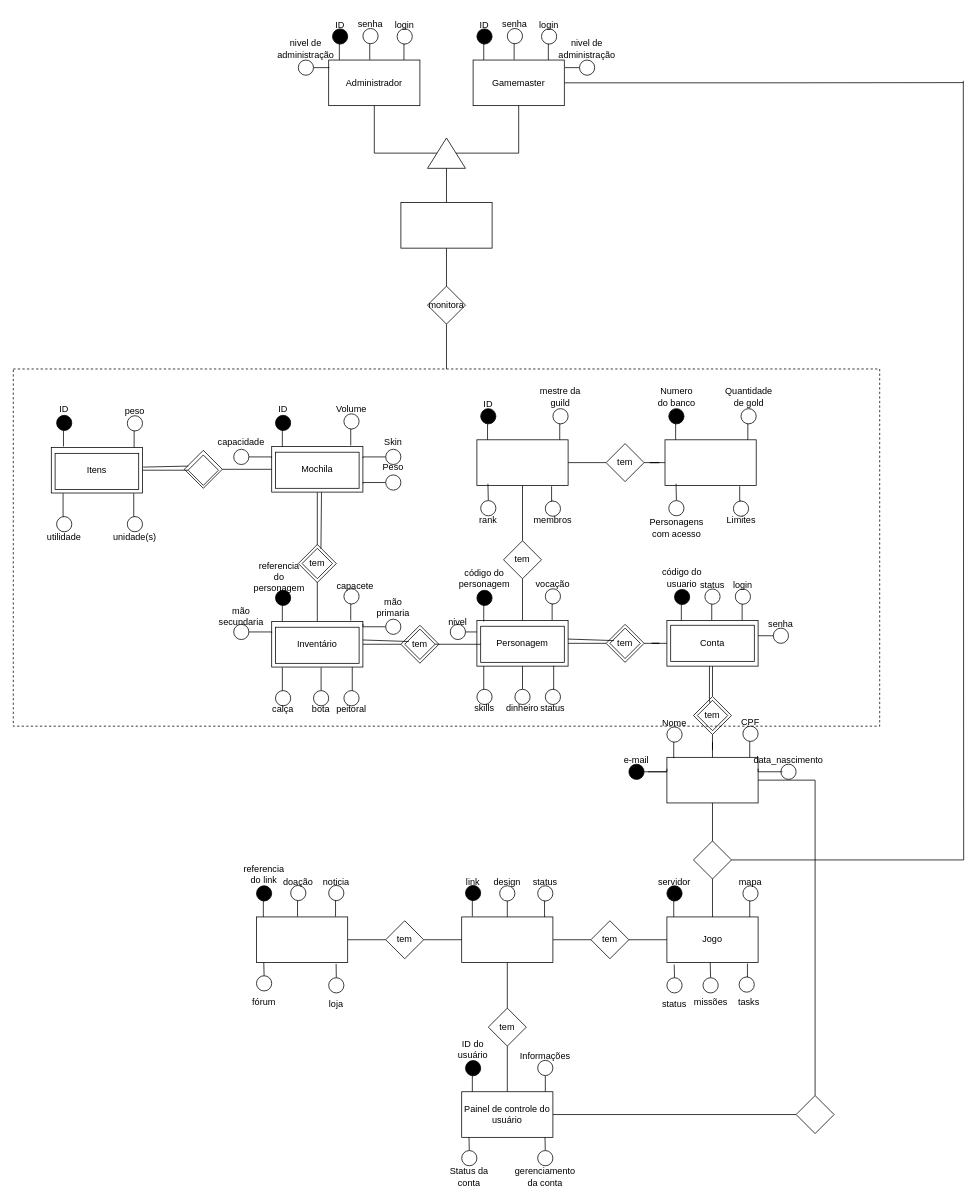
The diagram is 978 pixels wide and 1202 high, and some of its shapes have lost their labels. The centre of each missing label's shape, as x and y in pixels:
Abas: point (302, 939)
Banco da Guilda: point (710, 462)
Funcionários: point (446, 225)
guarda: point (202, 469)
Guilda: point (522, 462)
joga: point (712, 859)
Jogador: point (712, 780)
Site: point (507, 939)
usa: point (814, 1114)
